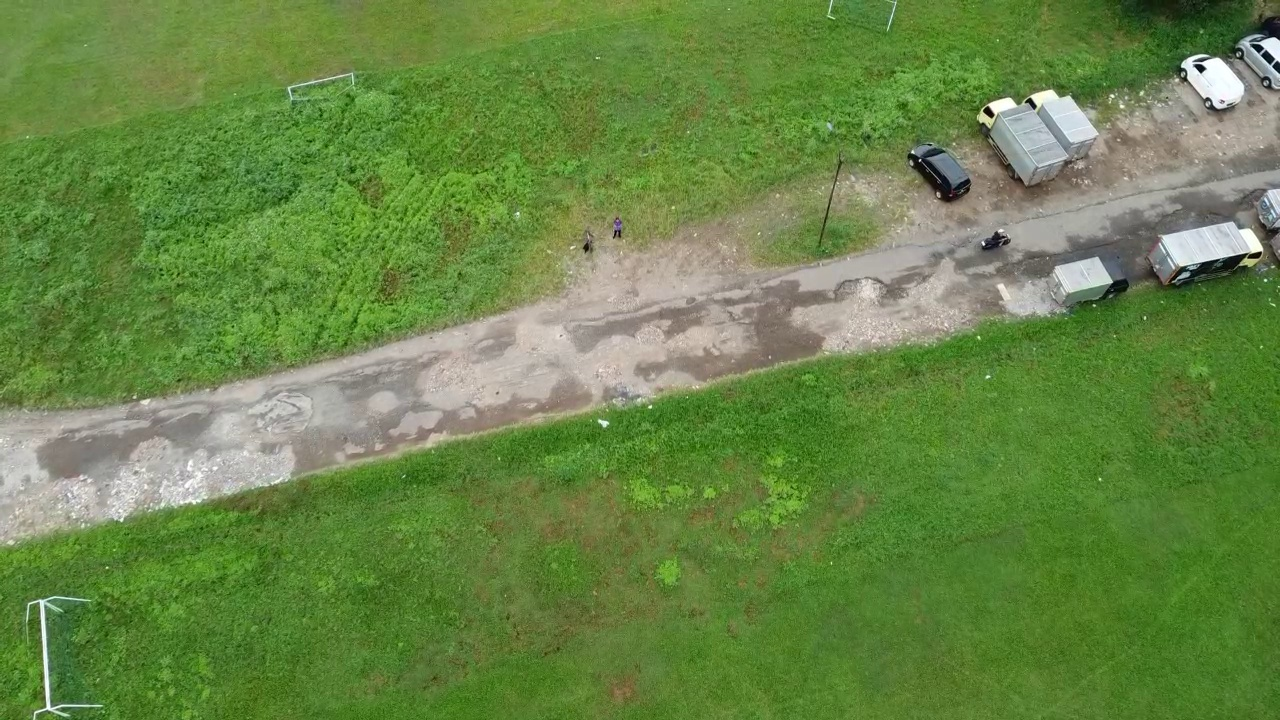mobil: (904, 139, 982, 223), (1174, 48, 1248, 124), (1233, 23, 1280, 90)
